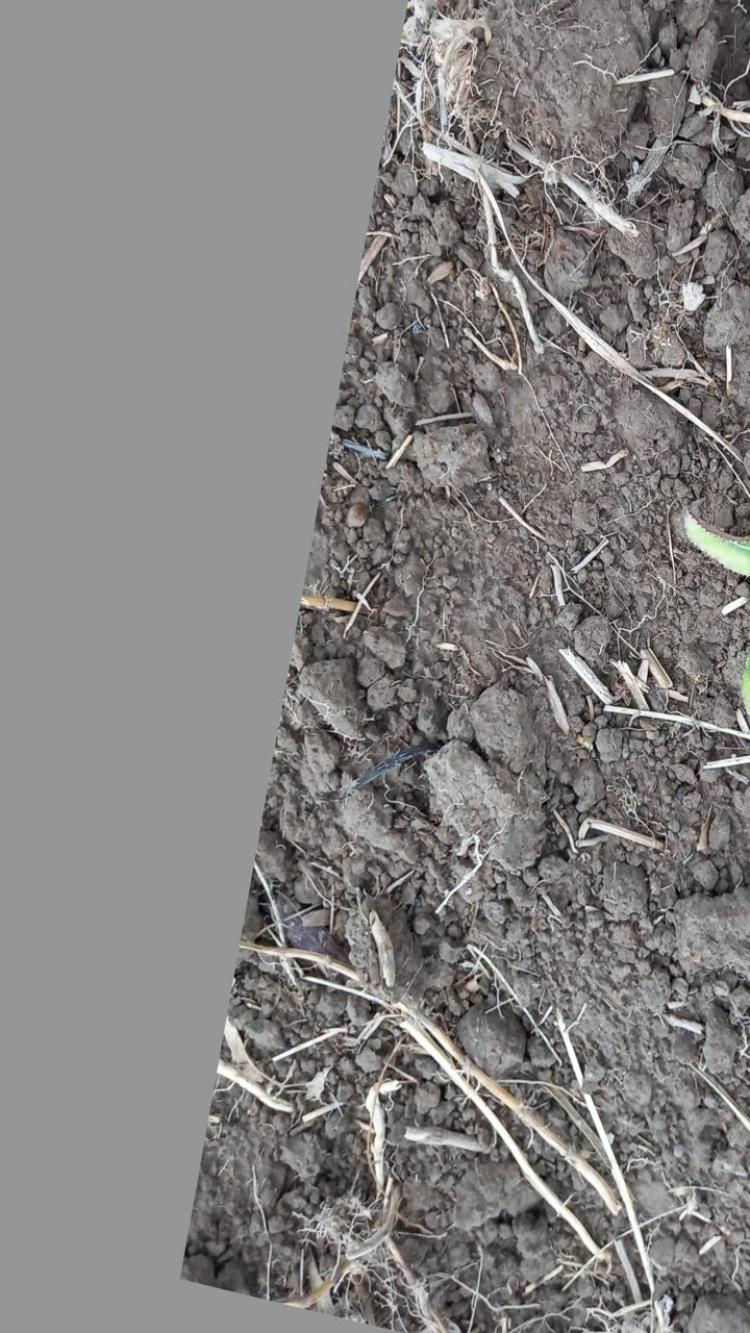bodyak: (671, 504, 750, 583)
